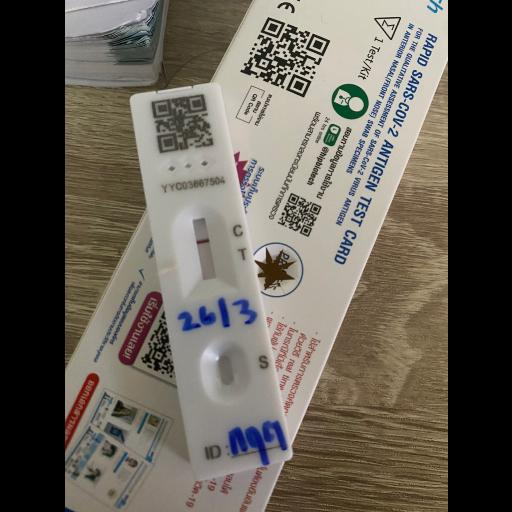Neg: (125, 82, 294, 482)
